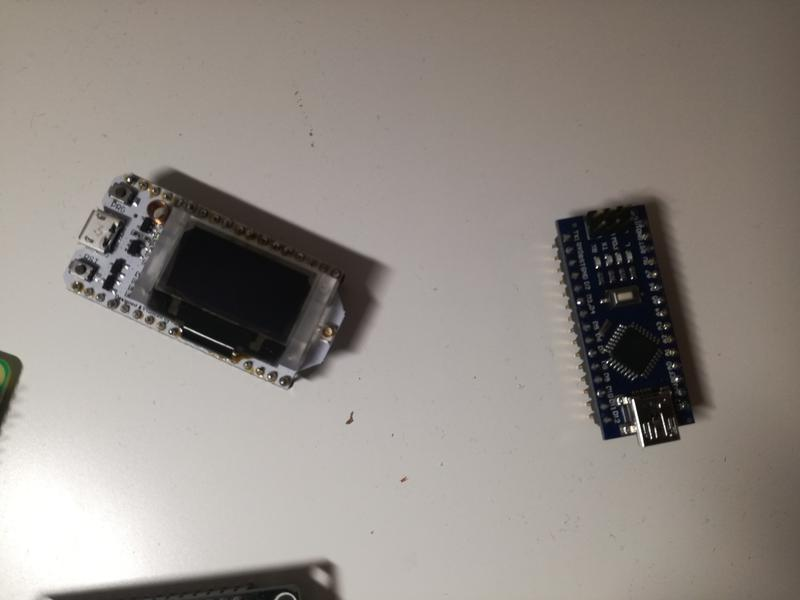Arduino_Nano: (551, 198, 711, 453)
Heltec_ESP32_Lora: (62, 163, 352, 393)
